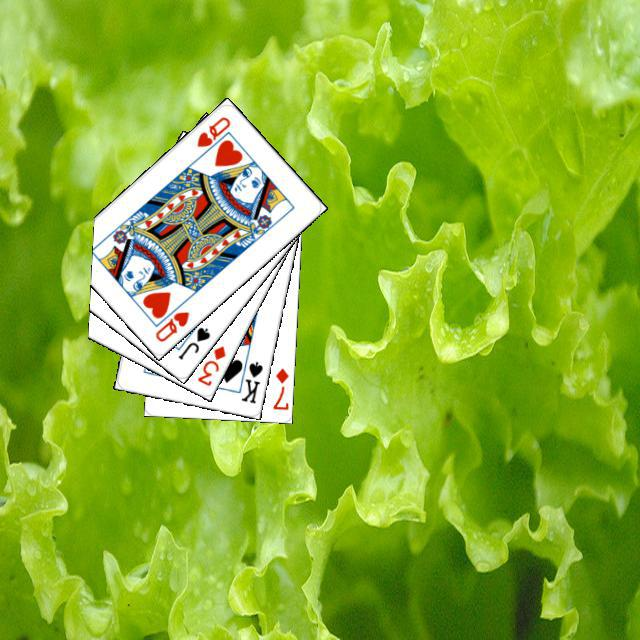3d: (192, 341, 227, 388)
7d: (268, 363, 290, 411)
Js: (173, 322, 212, 361)
Ks: (236, 357, 264, 405)
Qh: (192, 112, 232, 159), (150, 306, 191, 344)
